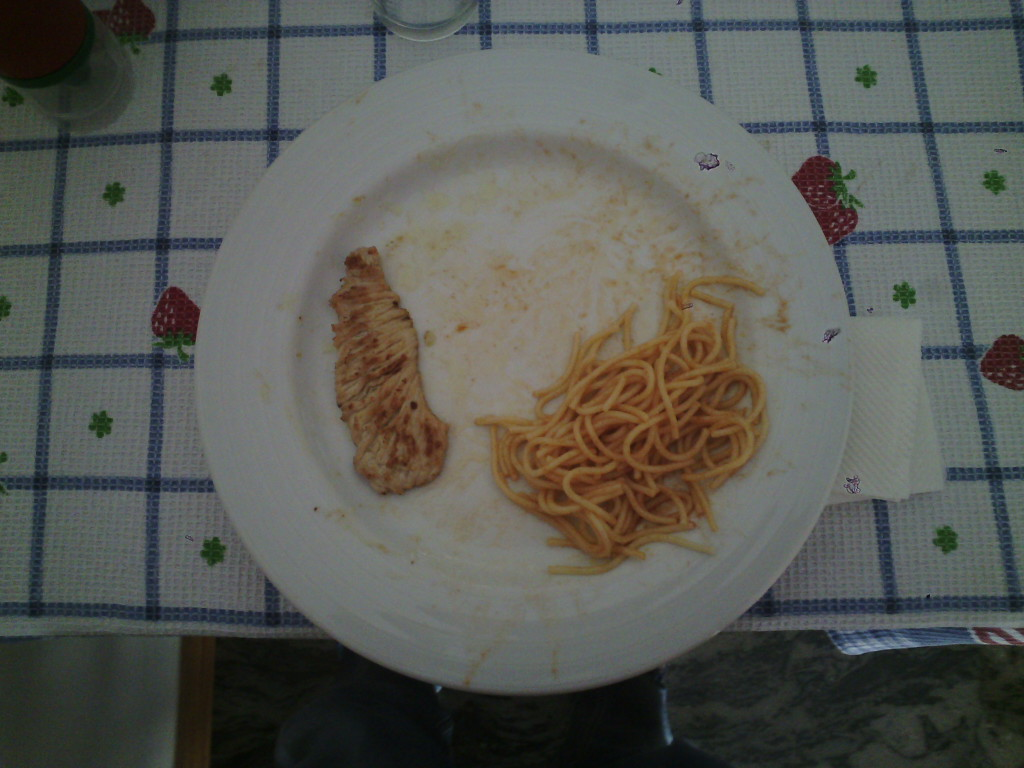41-60: (193, 48, 848, 693)
